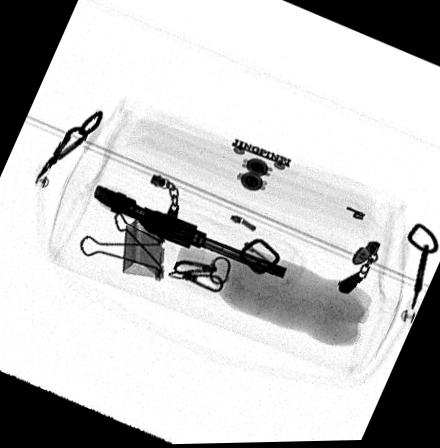Gun: (93, 184, 288, 281)
